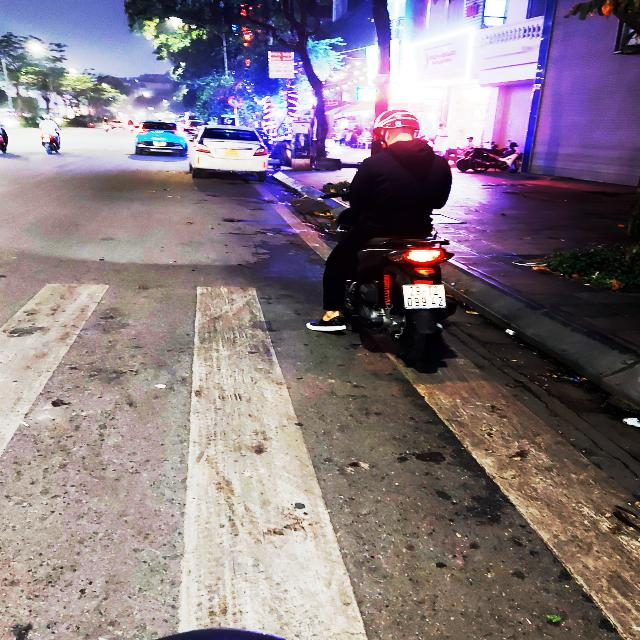license_plate: (401, 284, 449, 310)
